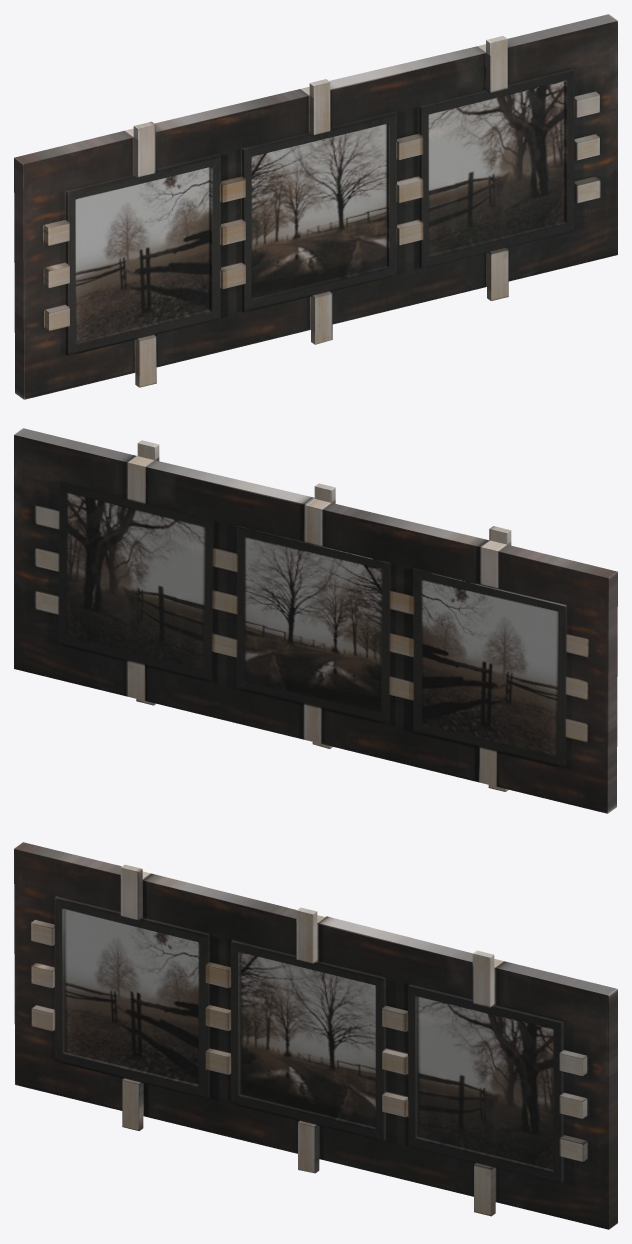
The model's file is picture.dae.
3 views of the same model, one above another, from view 1: azimuth 30°, elevation 25°; view 2: azimuth 150°, elevation 25°; view 3: azimuth 330°, elevation 25° (orthographic).
Visible parts, largest first — view 1: Group3, Model, Group2, Group1; view 2: Group3, Group1; view 3: Group3, Model, Group2, Group1.
Part boxes in pixels (bbox=[...]): Group3: bbox=[14, 14, 617, 399]; Model: bbox=[75, 81, 564, 341]; Group2: bbox=[65, 69, 574, 355]; Group1: bbox=[44, 36, 600, 387]; Group3: bbox=[14, 428, 617, 813]; Group1: bbox=[136, 440, 511, 791]; Group3: bbox=[14, 842, 617, 1229]; Model: bbox=[64, 909, 553, 1169]; Group2: bbox=[54, 896, 563, 1183]; Group1: bbox=[31, 864, 587, 1216].
Size of the model in its own units: 159 by 6.1 by 66.4.
Materials: 2 (2 with a texture image).
